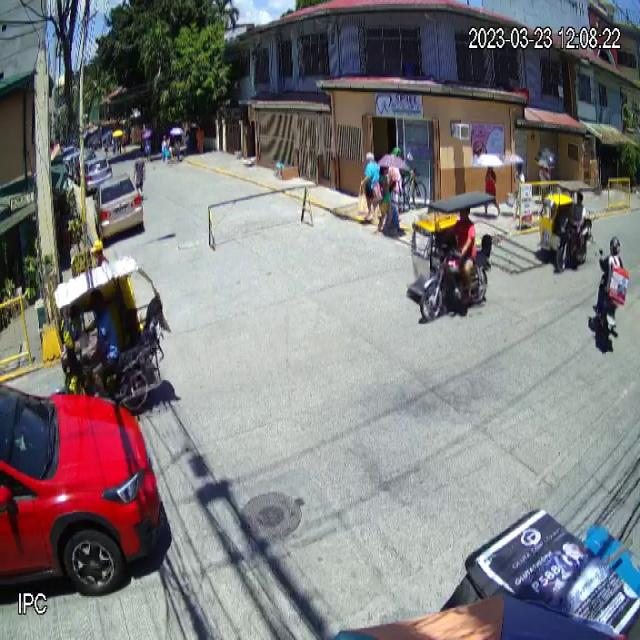Tricycle: (405, 191, 495, 323), (538, 180, 598, 276)
